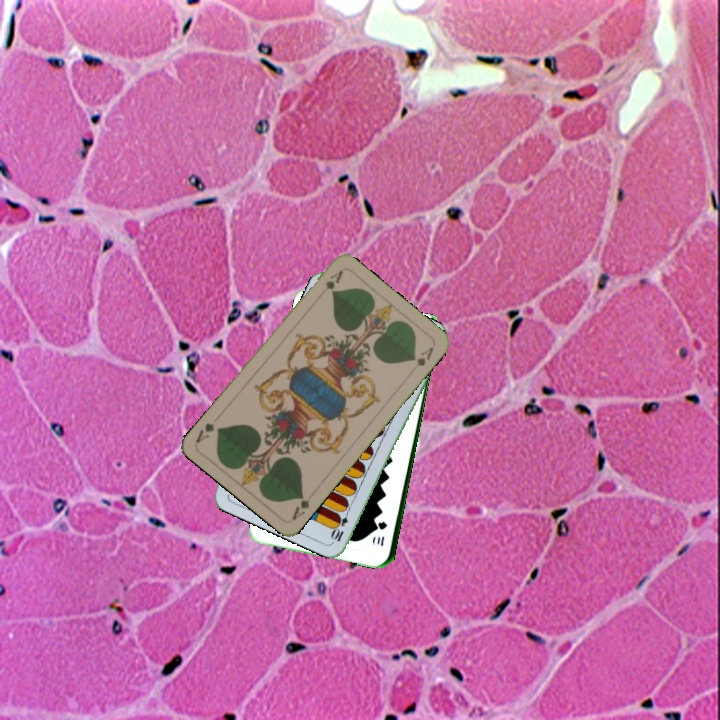E10: (329, 504, 352, 544)
G10: (373, 517, 389, 549)
GA: (288, 490, 312, 523), (321, 266, 345, 292)
